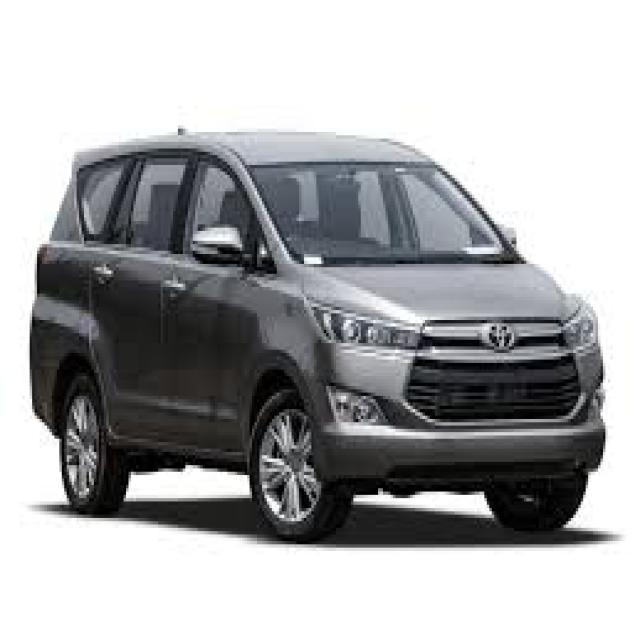light_vehicle: (30, 130, 606, 544)
